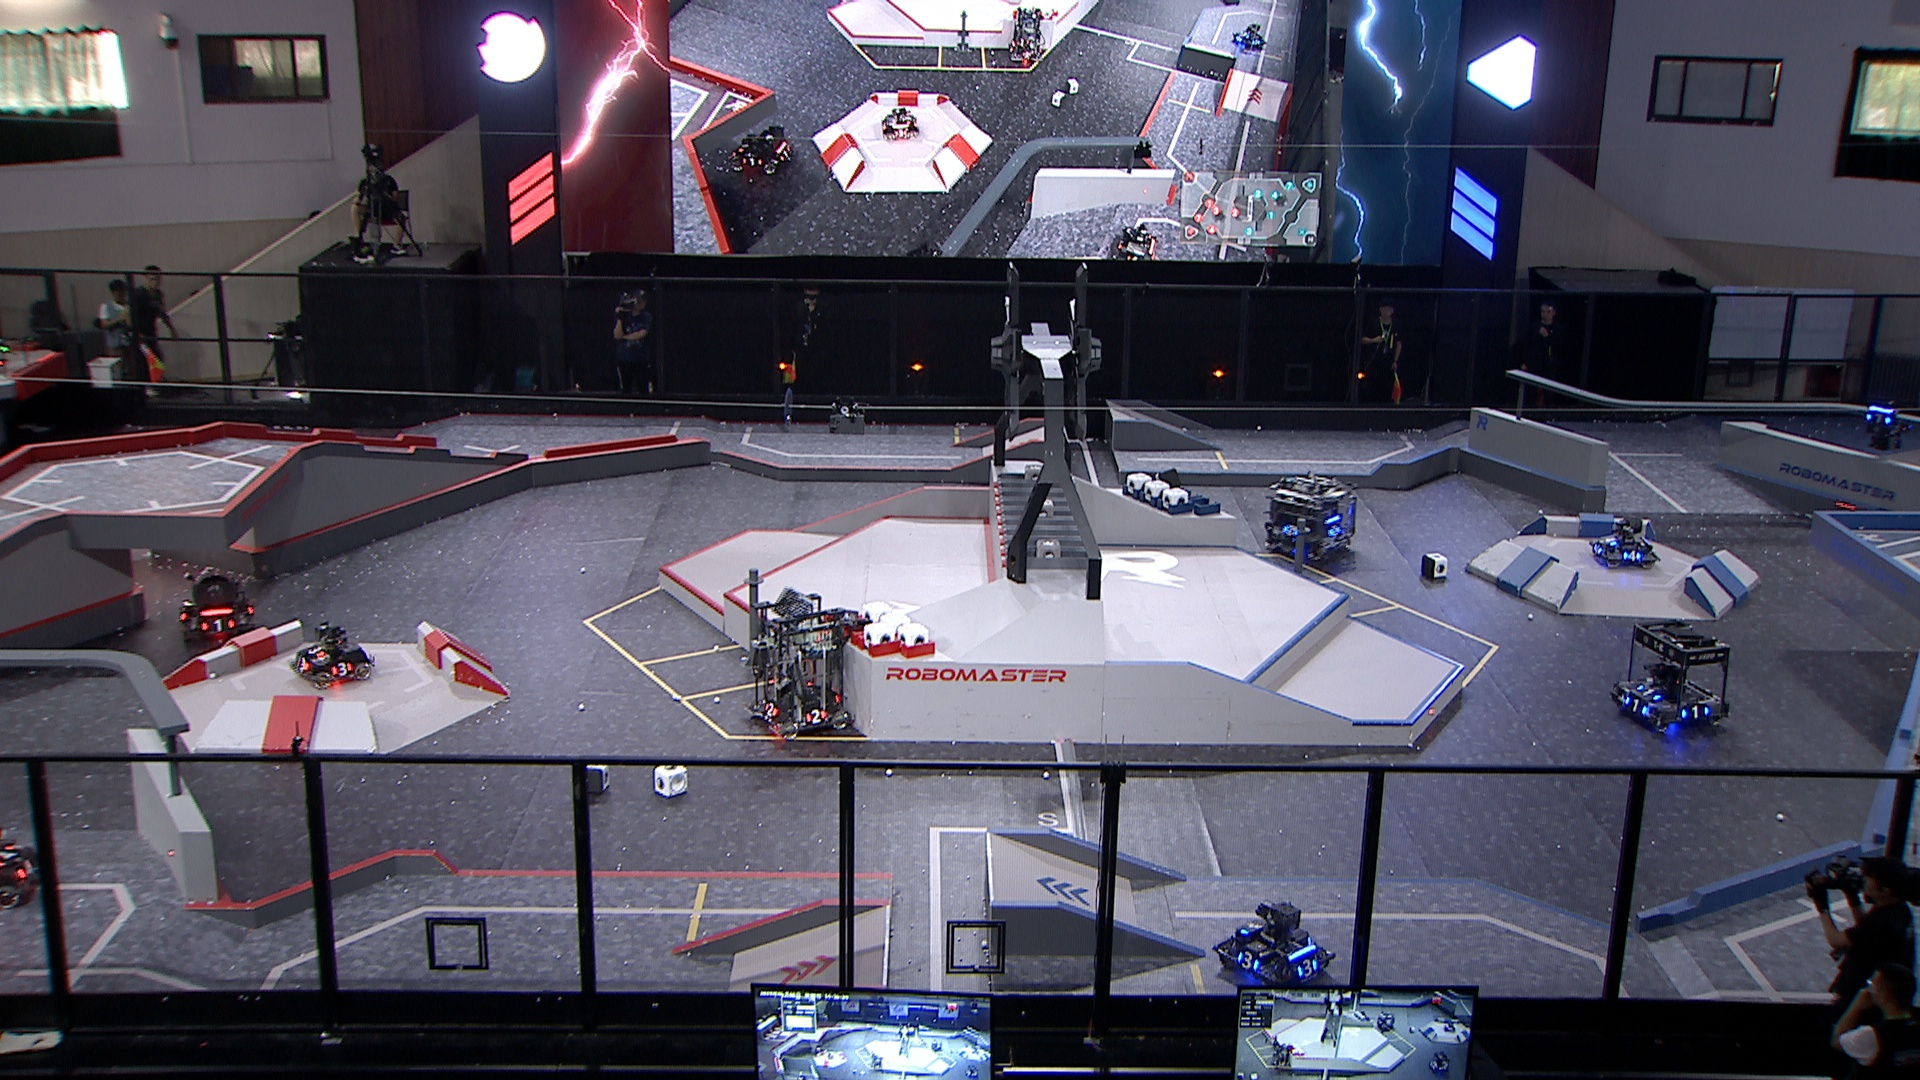armor: (1236, 949, 1259, 971), (17, 858, 38, 880), (1299, 957, 1320, 978), (1636, 683, 1662, 700), (200, 617, 235, 629), (1866, 410, 1892, 425), (328, 662, 353, 676), (806, 709, 828, 725), (1627, 694, 1644, 713), (1244, 920, 1265, 936), (1681, 705, 1709, 717), (764, 702, 778, 717), (306, 645, 324, 657), (1327, 524, 1342, 537), (1282, 522, 1298, 535), (1600, 534, 1617, 546), (1623, 550, 1642, 560), (297, 655, 310, 670), (1592, 542, 1604, 556)
car: (745, 589, 860, 744), (1607, 618, 1733, 733), (1211, 898, 1335, 994), (1261, 469, 1358, 568), (174, 568, 253, 644), (290, 621, 373, 688), (1588, 509, 1665, 570)
ignore: (728, 123, 798, 171), (1005, 7, 1048, 65), (1106, 219, 1156, 258), (882, 104, 920, 138), (1229, 21, 1269, 50), (1267, 1039, 1294, 1072), (1424, 1048, 1451, 1076), (910, 237, 948, 256), (1371, 1007, 1396, 1033), (866, 1050, 887, 1068), (1441, 1015, 1460, 1033), (963, 1063, 981, 1079), (928, 1039, 942, 1054)
watcher: (1859, 394, 1908, 452)
